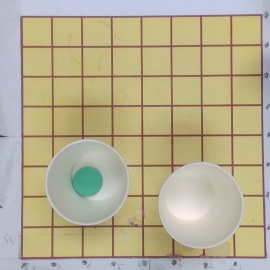cup: (156, 161, 246, 249)
cup_green: (45, 140, 132, 227)
